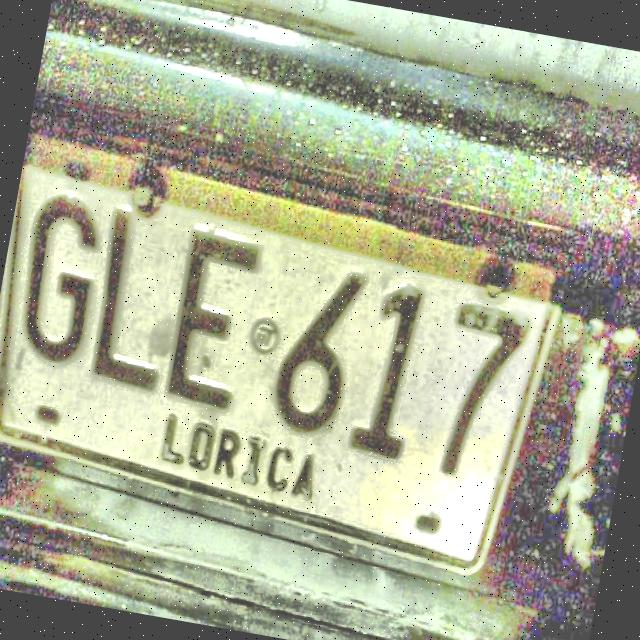1: (343, 272, 441, 466)
6: (264, 258, 374, 444)
7: (413, 288, 538, 490)
E: (157, 214, 266, 416)
G: (10, 186, 110, 366)
L: (78, 201, 189, 397)
